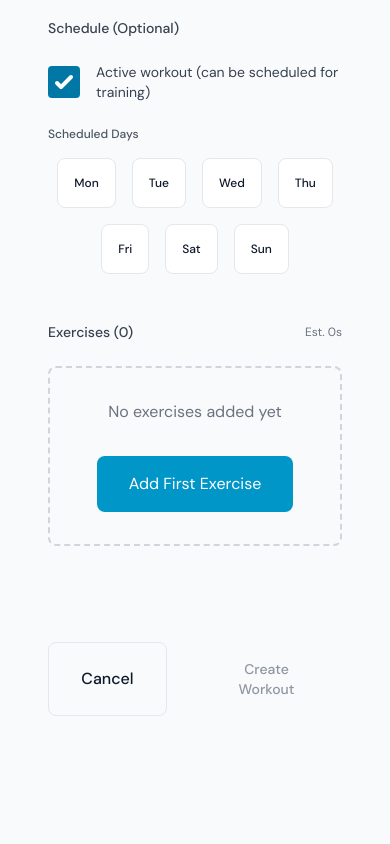
Scenario: CreateWorkoutPage Exercise Type Display › should show duration field for time-based exercises and hide sets/reps
The width and height of the screenshot is (390, 844).
(page scrolled)
Note: Open exercise picker (first exercise)
Click the button "Add First Exercise": (195, 484) [97,456,293,512]
(page scrolled)
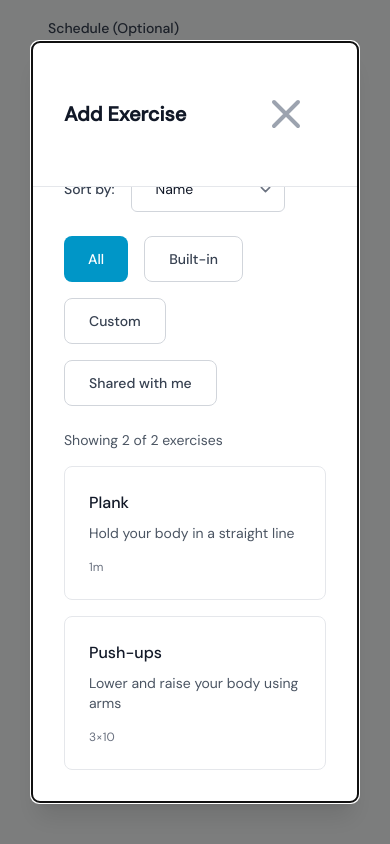
Now the heading "Plank" is shown, box [89,492,129,513]
Click the button "Plank": (195, 533) [64,466,326,600]
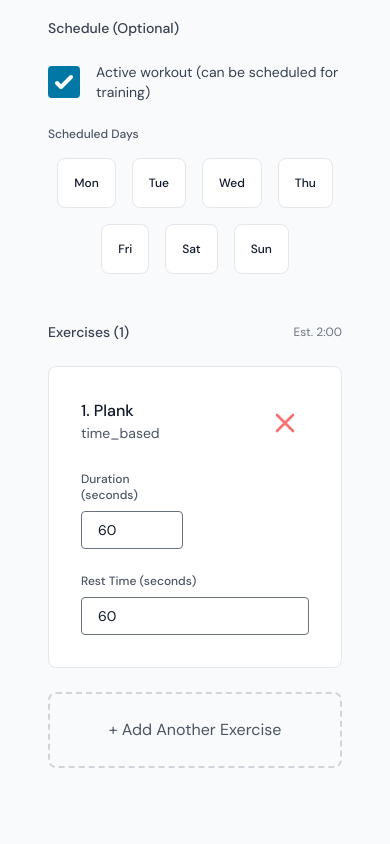
Now the heading "1. Plank" is shown, box [81,400,134,421]
Now the text "Duration (seconds)" is shown, box [81,471,138,503]
Now the text "Rest Time (seconds)" is shown, box [81,573,196,589]
